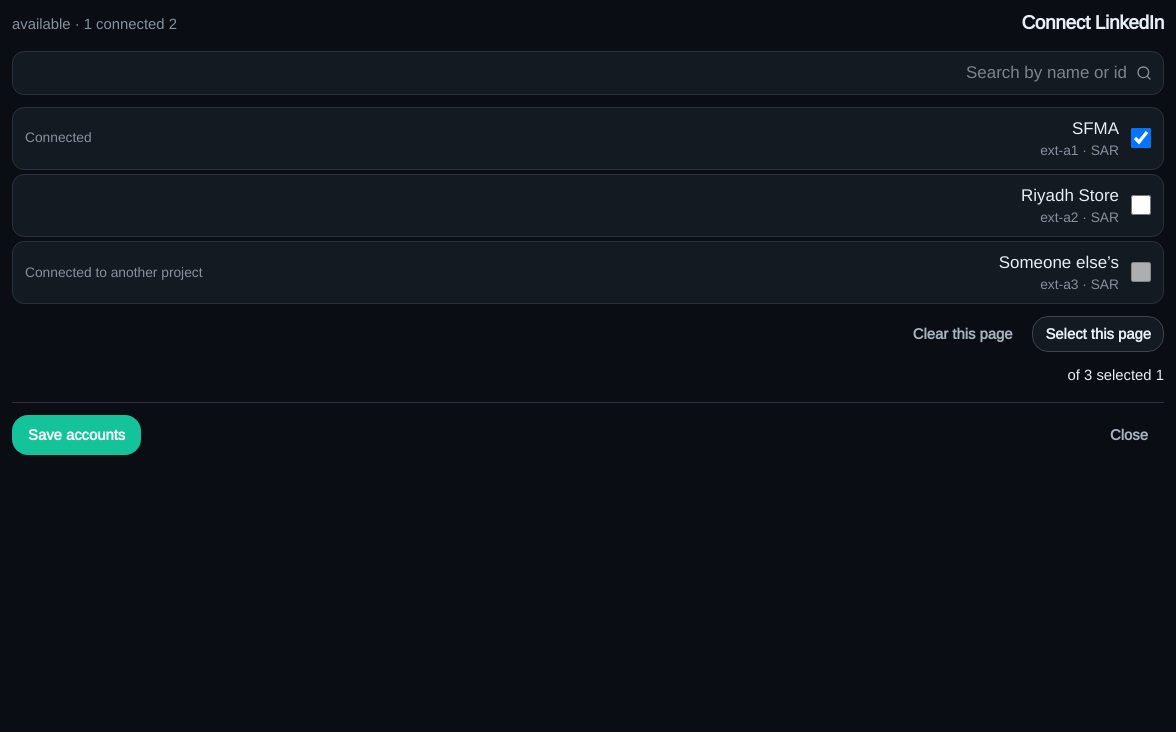
Scenario: managing the accounts of a connected source › states what the save changed, in the three groups
The width and height of the screenshot is (1176, 732).
Click the button with test id "wizard-save-selection" at (77, 435), box [12,415,141,455]
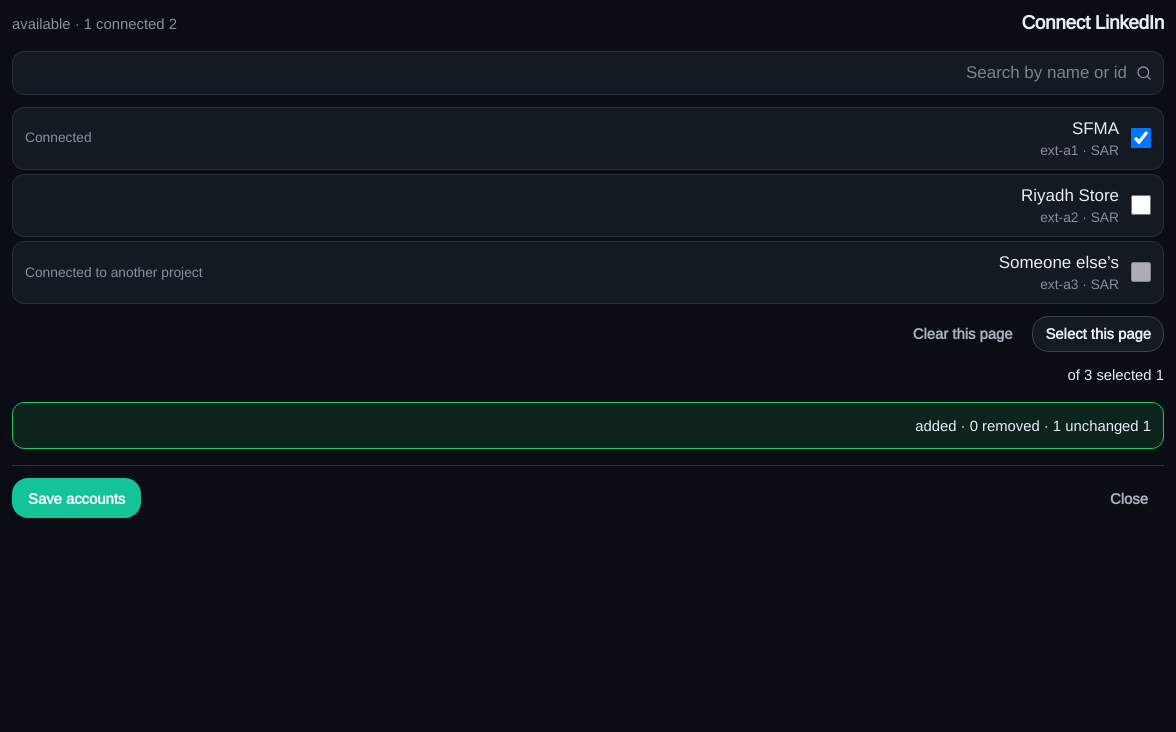
Check: the element with test id "wizard-selection-diff" shows "1 added", box [915,417,1151,434]
